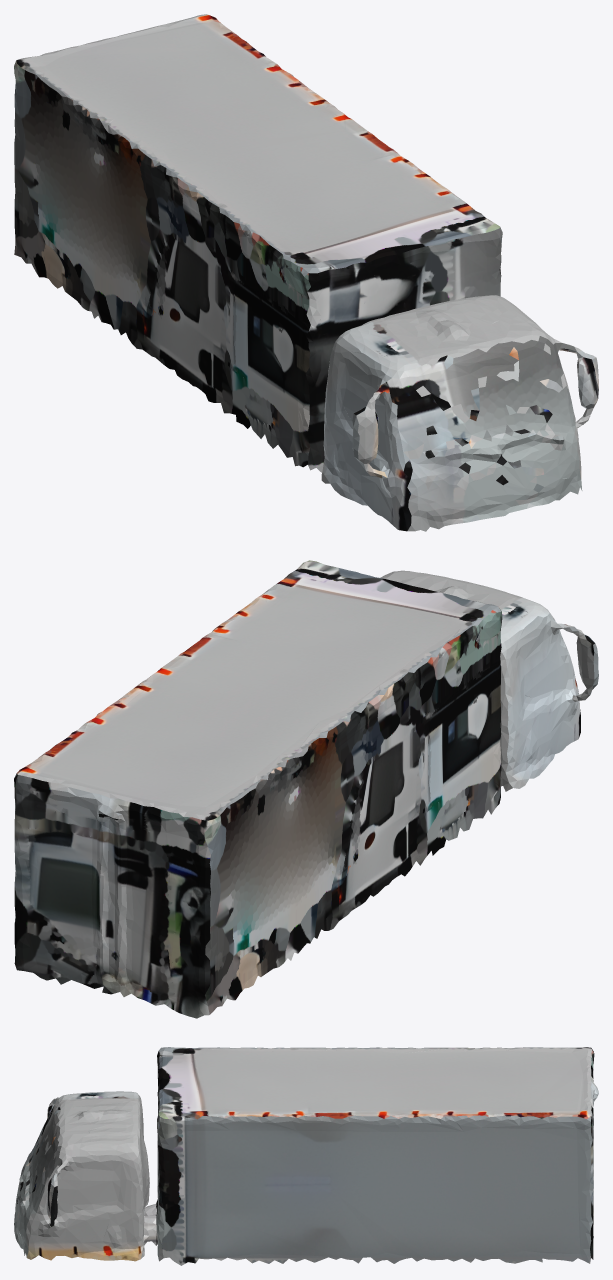
The model's file is bau-ia.glb.
3 renders of one model, top to bottom at view 1: azimuth 30°, elevation 25°; view 2: azimuth 150°, elevation 25°; view 3: azimuth 270°, elevation 25°, orthographic. The views are drawn at different scales.
Parts seen in each view (by area): view 1: geometry_0; view 2: geometry_0; view 3: geometry_0.
Boxes of the visible parts, left/top/right/bottom form: geometry_0: left=14, top=14, right=598, bottom=531; geometry_0: left=14, top=560, right=598, bottom=1018; geometry_0: left=14, top=1047, right=598, bottom=1265.
Bounding box in the file's own units: 0.7042 × 0.5594 × 1.97.
Materials: 1 (1 with a texture image).
